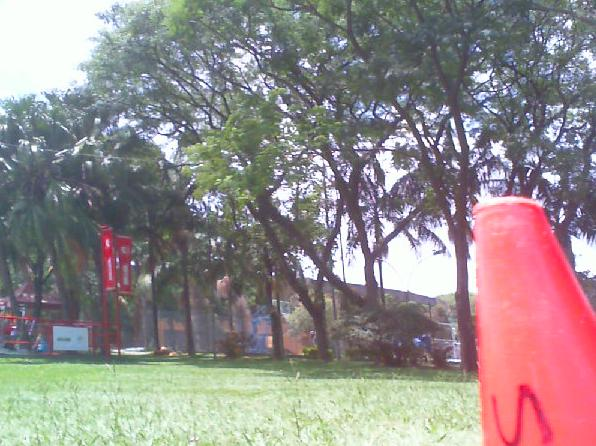0 cone: (472, 196, 596, 446)
